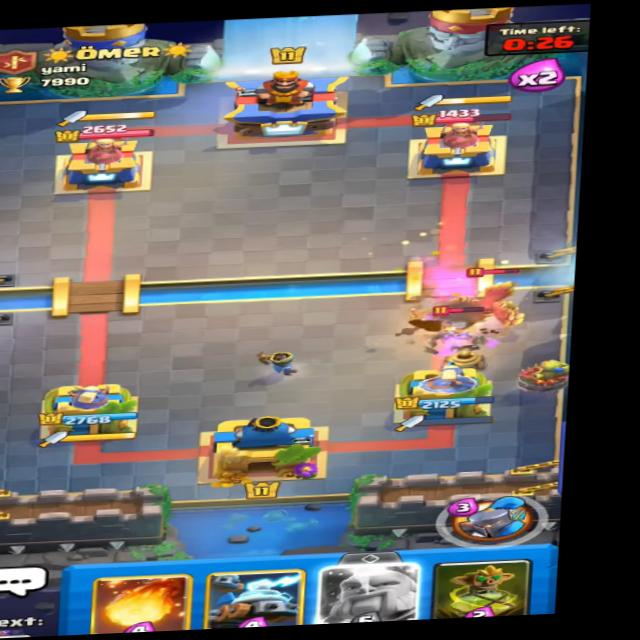phoenix: (425, 265, 553, 327)
